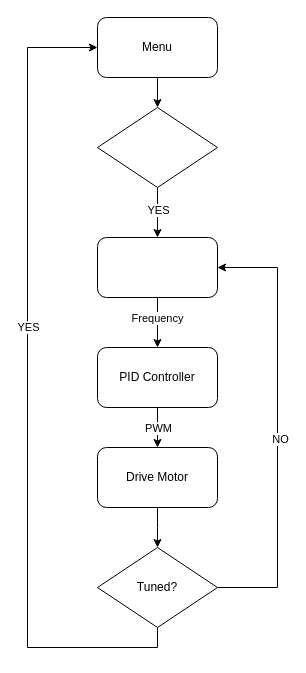
This 306x673 diagram has some shape labels left out. Each missing label, with the box of its shape:
Get Frequency: (96, 236, 218, 298)
Note Selected?: (96, 106, 218, 188)
